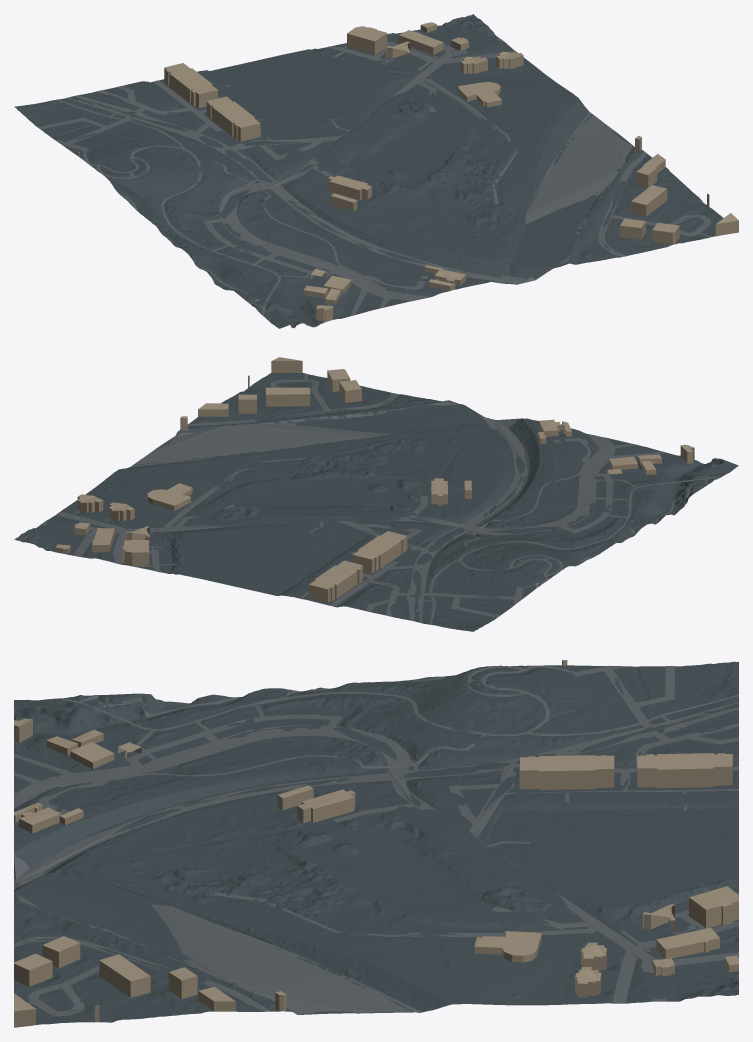
File: epsg26910-1422-10896.lod0.glb
3 renders of one model, top to bottom at view 1: azimuth 30°, elevation 25°; view 2: azimuth 150°, elevation 25°; view 3: azimuth 270°, elevation 25°, orthographic. The views are drawn at different scales.
Parts seen in each view (by area): view 1: epsg26910-1422-10896-lod0; view 2: epsg26910-1422-10896-lod0; view 3: epsg26910-1422-10896-lod0.
Part boxes in pixels (left/top/right/bottom): epsg26910-1422-10896-lod0: left=14, top=14, right=738, bottom=328; epsg26910-1422-10896-lod0: left=14, top=357, right=738, bottom=631; epsg26910-1422-10896-lod0: left=14, top=660, right=738, bottom=1027.
Bounding box in the file's own units: 384 × 38.69 × 384.
